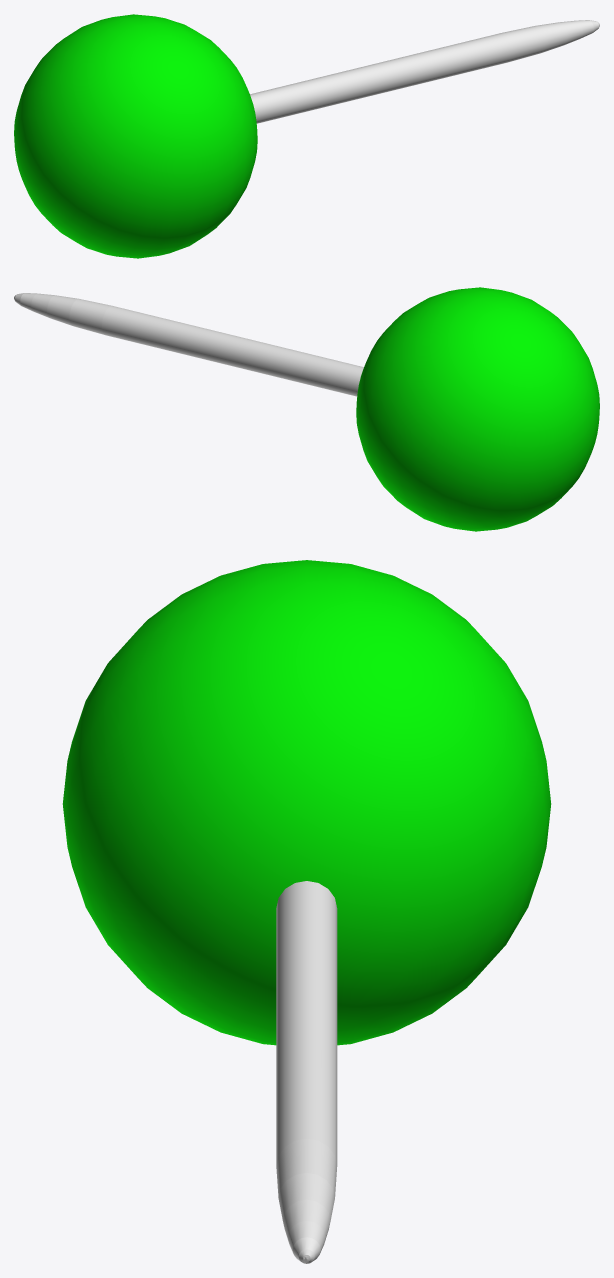
The picture shows the model from 3 angles, top to bottom: view 1: azimuth 30°, elevation 25°; view 2: azimuth 150°, elevation 25°; view 3: azimuth 270°, elevation 25°; orthographic projection. The views are drawn at different scales.
Visible parts, largest first — view 1: Line005; view 2: Line005; view 3: Line005.
Part boxes in pixels (x1,y1,x2,y2): Line005: [14, 14, 599, 258]; Line005: [14, 287, 599, 531]; Line005: [62, 560, 551, 1263].
Size of the model in its own units: 0.0274 by 0.0102 by 0.0102.
